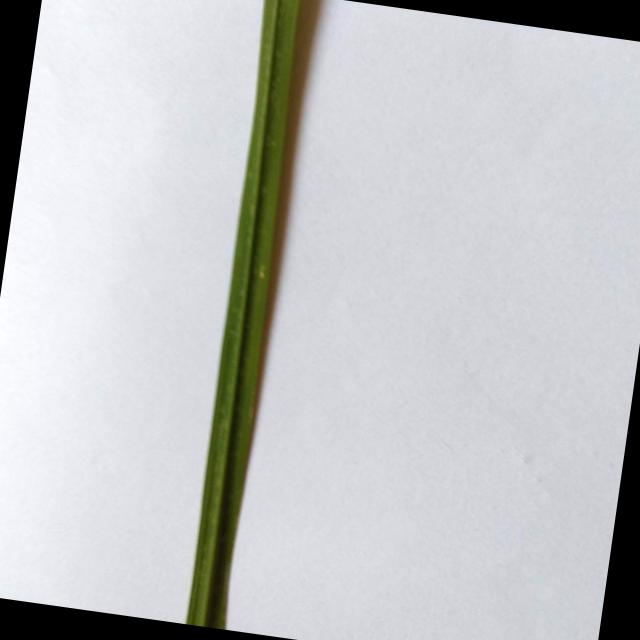Rice_Healthy: (186, 0, 302, 629)
